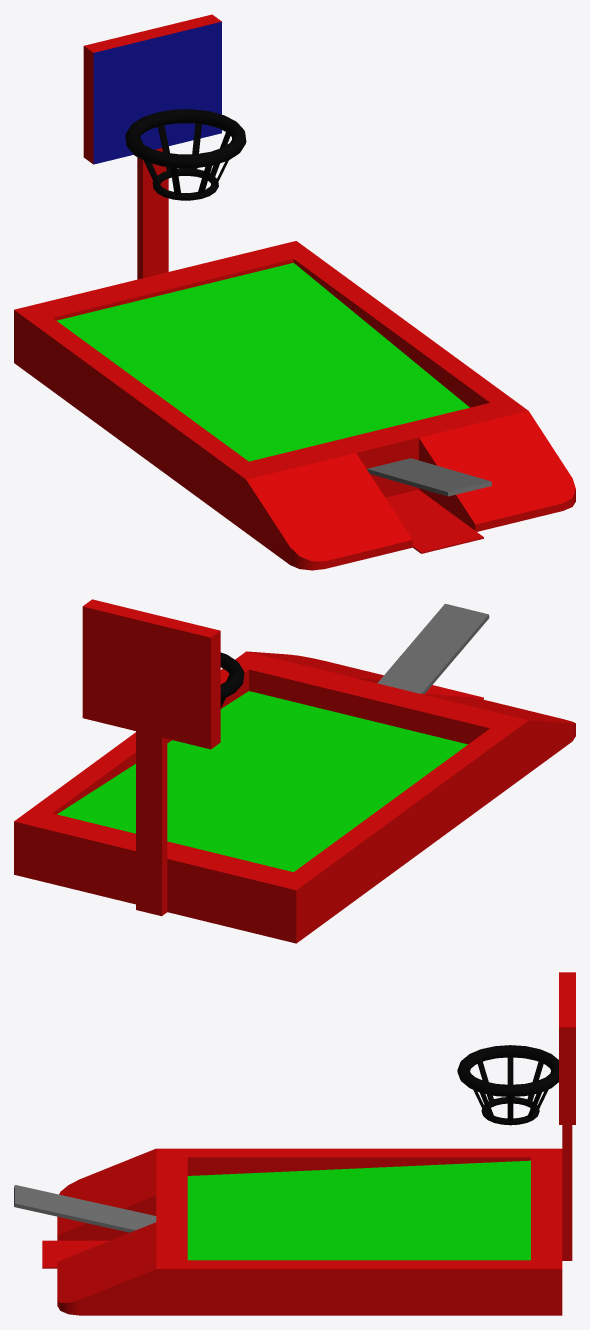
File: SM_LanceBalle.fbx
3 views of the same model, one above another, from view 1: azimuth 30°, elevation 25°; view 2: azimuth 150°, elevation 25°; view 3: azimuth 270°, elevation 25° (orthographic). The views are drawn at different scales.
Parts seen in each view (by area): view 1: pPlane2; view 2: pPlane2; view 3: pPlane2.
Boxes of the visible parts, left/top/right/bottom form: pPlane2: left=14, top=14, right=575, bottom=570; pPlane2: left=14, top=599, right=575, bottom=943; pPlane2: left=14, top=972, right=575, bottom=1315.
Bounding box in the file's own units: 14.42 × 14.28 × 28.43.
